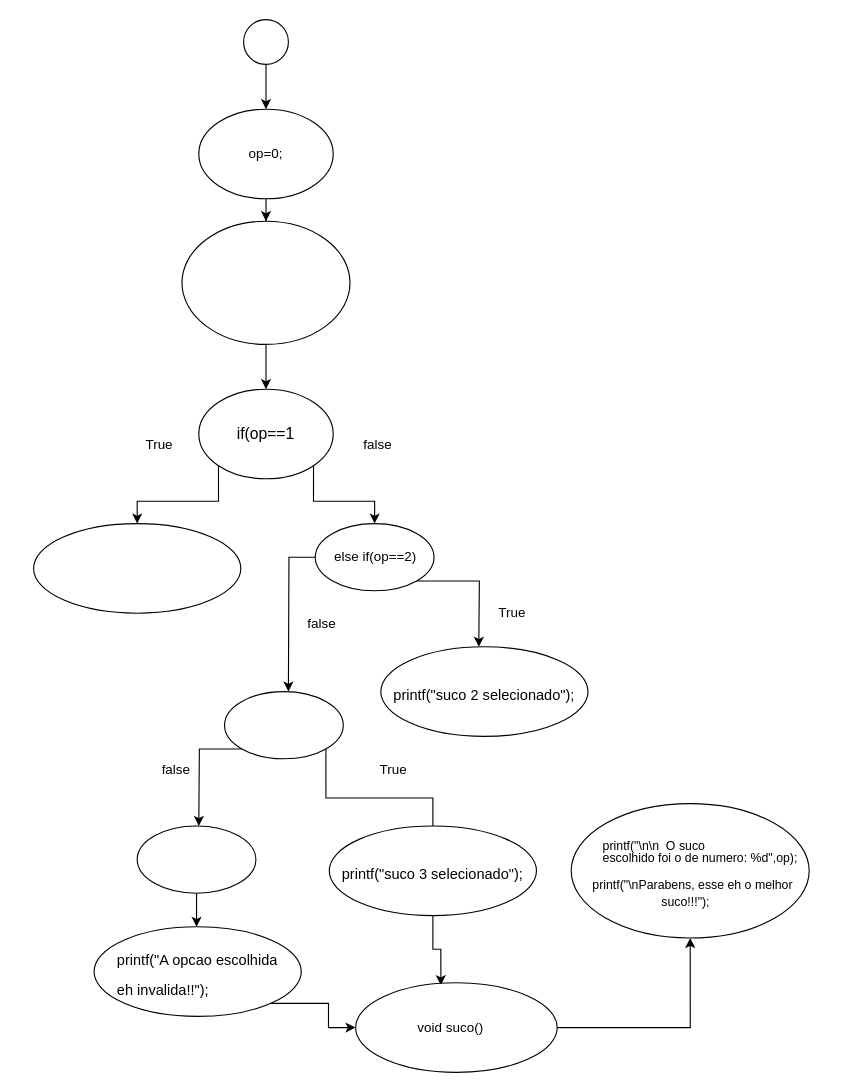
Some shapes in this 848 by 1092 pixel diagram are drawn without their labels. The centre of each missing label's shape, as x and y in pixels:
else: the point at 196,859
else if(op==3): the point at 283,724
printf("suco 1 selecionado");: the point at 136,567
prints para selecionar suco: the point at 265,282
